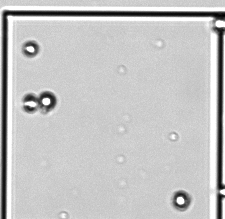Living Cell: (38, 90, 56, 111), (21, 40, 40, 57), (23, 94, 39, 113), (173, 190, 189, 209), (212, 16, 225, 32)
